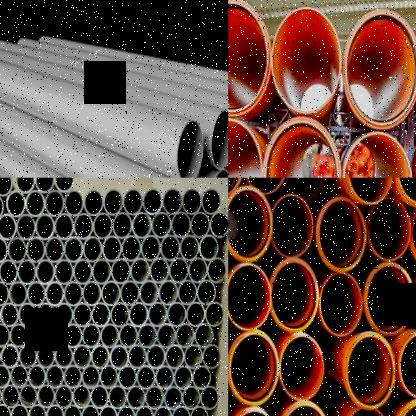pipe: (345, 10, 416, 126), (271, 6, 342, 114), (262, 116, 341, 178), (228, 0, 269, 117), (346, 335, 396, 410), (364, 263, 414, 337), (317, 198, 367, 271), (228, 331, 278, 404), (270, 259, 319, 329), (228, 186, 273, 262), (343, 132, 413, 178), (228, 264, 272, 331), (367, 197, 411, 260), (321, 272, 363, 337), (280, 336, 324, 398), (271, 194, 313, 257), (228, 118, 263, 178), (177, 120, 203, 178), (348, 178, 393, 203), (400, 333, 416, 399), (211, 110, 228, 170), (285, 178, 326, 201), (243, 178, 288, 194), (281, 402, 330, 416), (121, 234, 142, 262), (162, 186, 182, 215), (123, 187, 143, 216), (103, 187, 123, 216), (130, 257, 151, 284), (5, 190, 26, 217), (188, 256, 208, 284), (168, 256, 188, 284), (150, 256, 170, 284), (111, 257, 131, 285), (182, 187, 202, 215), (142, 187, 162, 215), (84, 188, 104, 216), (26, 189, 46, 217), (112, 211, 132, 239), (54, 212, 74, 240), (160, 234, 180, 262), (140, 234, 160, 262), (83, 235, 103, 263), (119, 280, 140, 306), (147, 301, 168, 327), (54, 258, 74, 285), (158, 279, 178, 306), (140, 279, 160, 306), (82, 280, 102, 307), (8, 280, 28, 307), (54, 301, 74, 328), (201, 187, 221, 214), (64, 189, 84, 216), (44, 189, 64, 216), (190, 211, 210, 238), (152, 211, 172, 238), (132, 211, 152, 238), (93, 212, 113, 239), (74, 212, 94, 239), (180, 234, 200, 261), (102, 235, 122, 262), (26, 236, 46, 263), (64, 235, 83, 263), (92, 258, 112, 284), (36, 258, 55, 285), (178, 279, 197, 306), (197, 279, 216, 306), (63, 280, 82, 307), (27, 280, 46, 307), (45, 280, 64, 307), (110, 301, 129, 328), (73, 301, 92, 328), (119, 322, 138, 349), (157, 322, 176, 349), (100, 322, 119, 349), (165, 343, 184, 370), (209, 210, 228, 237), (171, 211, 190, 238), (17, 213, 36, 240), (45, 236, 64, 263), (8, 236, 26, 264), (72, 344, 92, 369), (146, 344, 166, 369), (186, 301, 205, 327), (167, 301, 186, 327), (136, 364, 155, 390), (155, 364, 174, 390), (174, 364, 193, 390), (18, 258, 36, 285), (0, 258, 18, 285), (130, 301, 148, 328), (0, 301, 18, 328), (176, 322, 194, 349), (36, 213, 54, 240), (200, 234, 218, 261), (18, 302, 37, 327), (36, 302, 55, 327), (138, 323, 157, 348), (63, 323, 82, 348), (82, 323, 101, 348), (54, 344, 73, 369), (128, 344, 147, 369), (184, 344, 203, 369), (108, 385, 127, 410), (127, 385, 146, 410), (145, 385, 164, 410), (208, 257, 226, 283), (74, 258, 92, 284), (102, 280, 120, 306), (205, 301, 223, 327), (192, 364, 210, 390), (0, 213, 17, 240), (63, 364, 82, 388), (118, 365, 137, 389), (54, 384, 73, 408), (92, 302, 110, 327), (28, 323, 46, 348), (194, 323, 212, 348), (10, 323, 28, 348), (46, 323, 64, 348), (202, 344, 220, 369), (92, 344, 110, 369), (110, 344, 128, 369), (82, 364, 100, 389), (100, 364, 118, 389), (90, 385, 108, 410), (182, 385, 200, 410), (201, 385, 219, 410), (1, 344, 19, 368), (19, 344, 37, 368), (37, 344, 55, 368), (28, 364, 46, 388), (10, 364, 28, 388), (46, 364, 64, 388), (20, 384, 38, 408), (2, 384, 20, 408), (37, 384, 55, 408), (73, 384, 91, 408), (164, 386, 182, 410), (34, 178, 54, 193), (15, 178, 35, 193), (54, 178, 74, 192), (0, 364, 10, 388), (10, 403, 28, 416), (0, 178, 13, 196), (0, 322, 9, 347), (134, 405, 154, 416), (152, 405, 172, 416), (46, 404, 64, 416), (81, 404, 99, 416), (99, 404, 117, 416), (117, 404, 135, 416), (171, 405, 190, 416), (0, 280, 8, 306), (63, 404, 80, 416), (29, 404, 46, 416), (0, 236, 7, 263), (190, 405, 207, 416), (0, 403, 11, 416), (0, 192, 5, 219)
